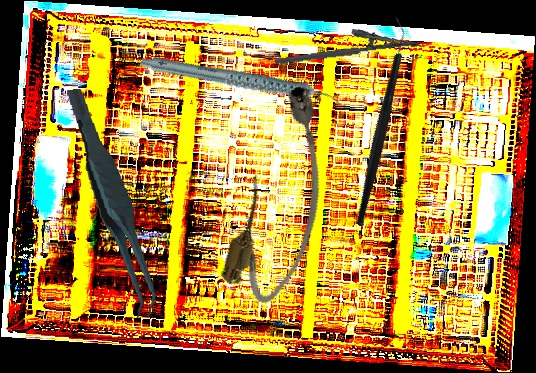Cannula: (216, 79, 353, 311)
Chopper: (289, 15, 469, 228)
Handpiece: (138, 17, 343, 149)
Needle Holder: (271, 21, 423, 65)
Tissue Forceps: (64, 82, 160, 324)
